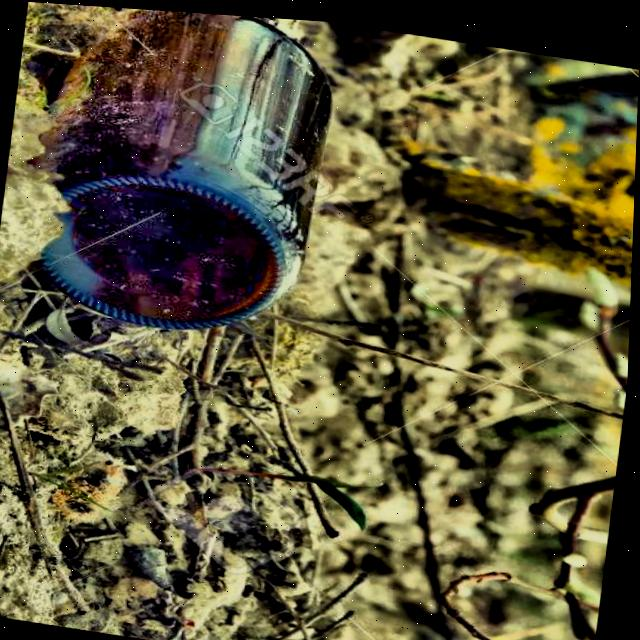glass: (27, 8, 333, 331)
